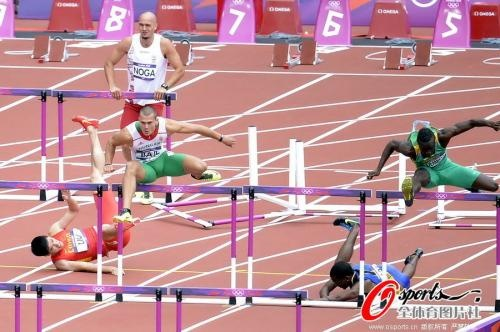falling: (22, 97, 144, 278)
